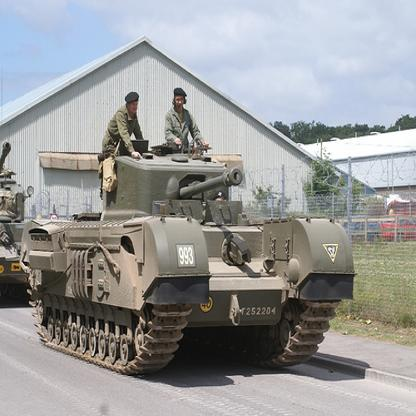Tank: (21, 135, 366, 379)
